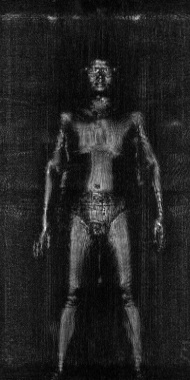gun: (129, 134, 143, 178)
